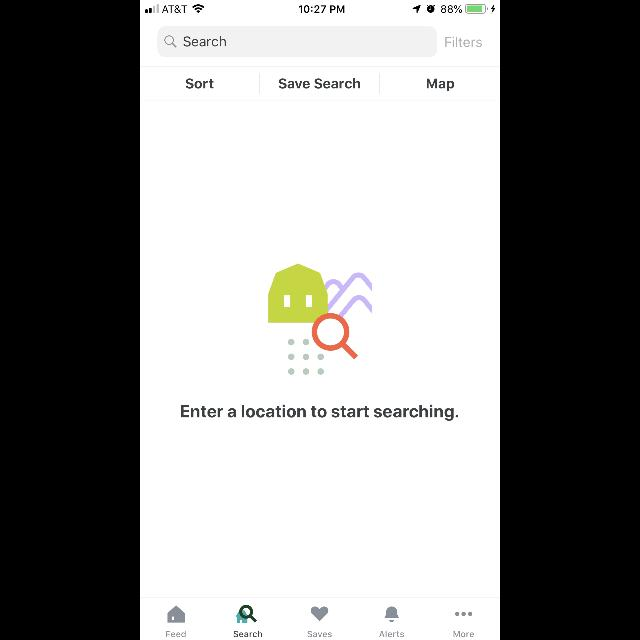icon: (236, 605, 258, 623), (168, 606, 185, 622), (384, 606, 400, 622), (312, 606, 328, 622), (165, 36, 177, 48), (456, 612, 472, 616)
image: (268, 263, 372, 375)
input: (158, 27, 438, 58)
text: (182, 404, 458, 422), (279, 78, 361, 90), (184, 36, 226, 48), (444, 36, 482, 48), (426, 78, 454, 92), (186, 78, 214, 90), (234, 630, 262, 638), (308, 631, 332, 637), (380, 631, 404, 637), (454, 631, 474, 637), (167, 631, 186, 637)
uppertaskbar: (140, 0, 500, 14)
